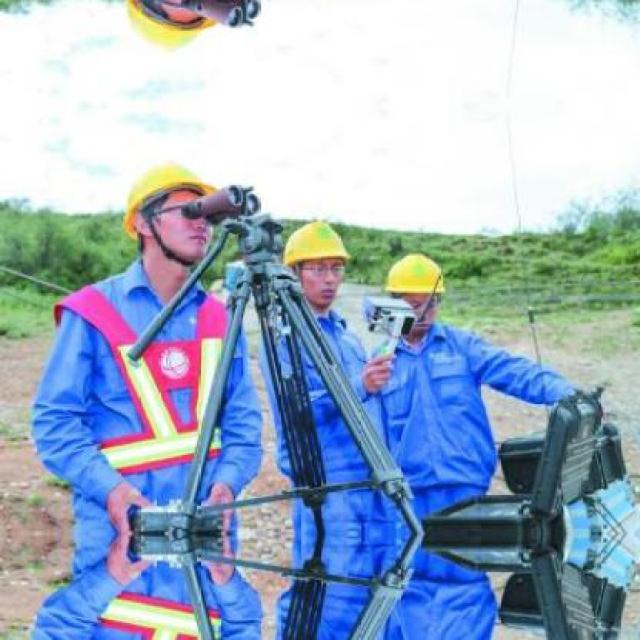helmet: (111, 148, 224, 270), (271, 214, 354, 308), (110, 0, 224, 65), (379, 244, 452, 328)
